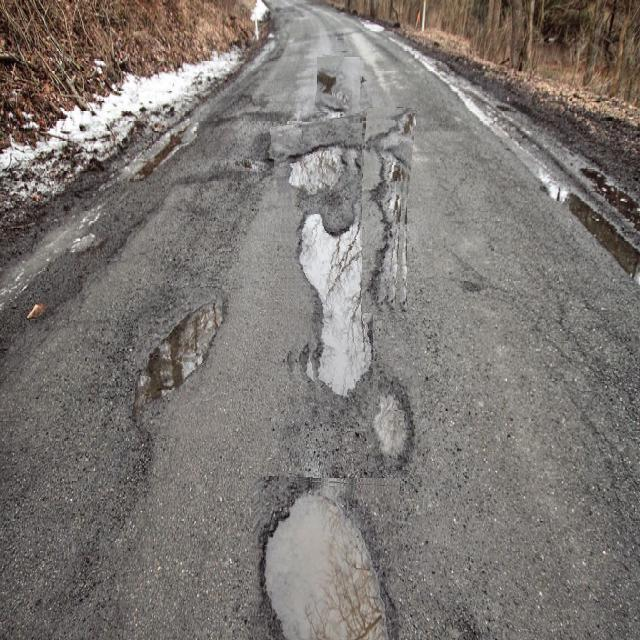Pothole: (279, 119, 373, 422), (251, 477, 399, 640), (135, 286, 227, 438), (362, 107, 412, 314), (369, 360, 421, 475), (315, 56, 362, 114)
